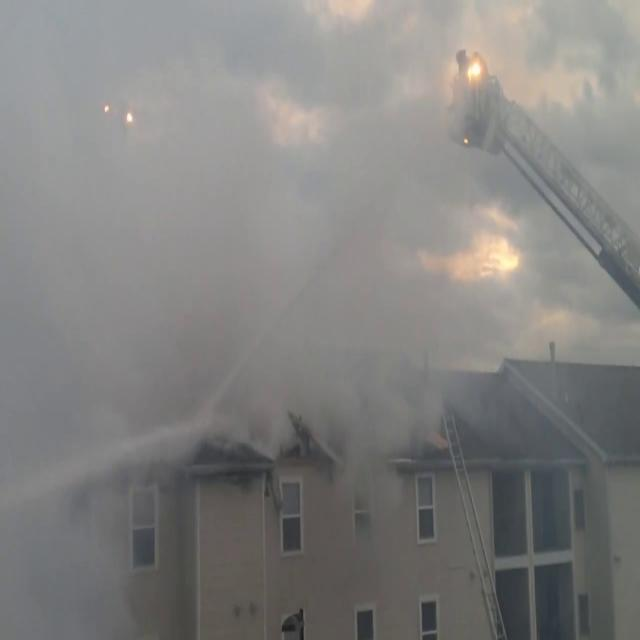Smoke: (1, 2, 450, 562)
